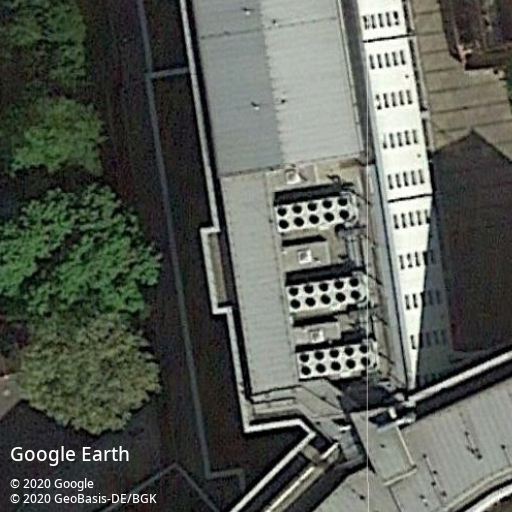Chiller: (284, 275, 364, 314), (294, 342, 374, 380), (274, 195, 353, 233)
